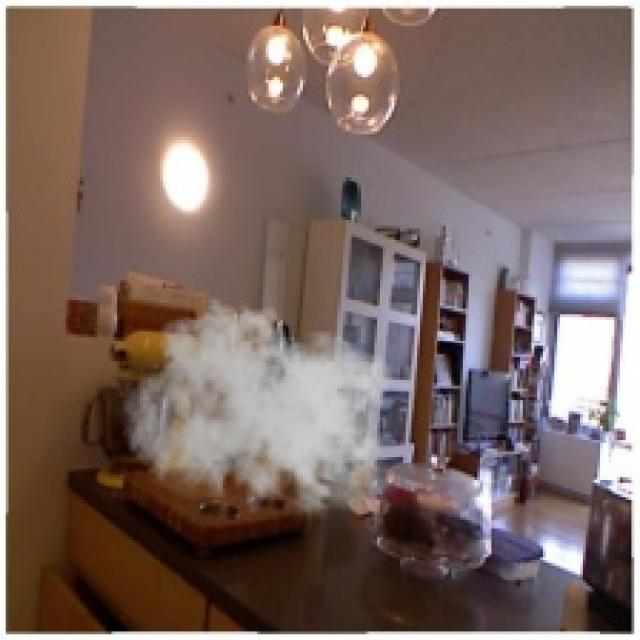smoke: (123, 297, 400, 529)
